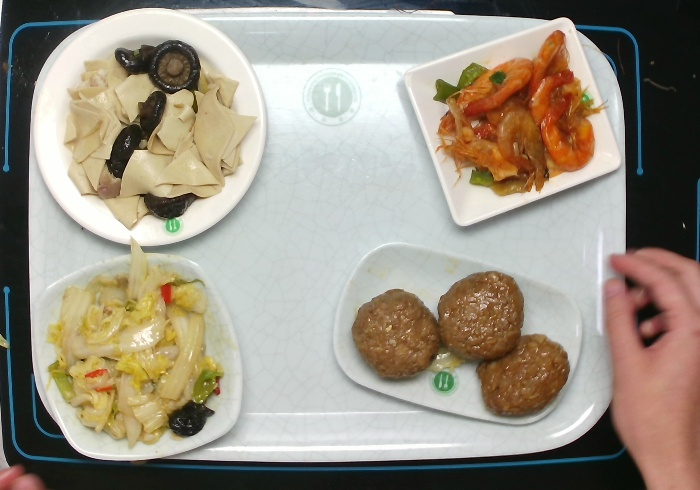WCQzf-Bai_Se_Si_Fang_Die: (399, 17, 624, 232)
WCQzf-Da_Si_Fang_Die: (29, 248, 244, 465)
WCQzf-Kuan_Bian_Yuan_Die: (29, 5, 266, 246)
WCQzf-Tuo_Yuan_Pan: (329, 236, 584, 426)
